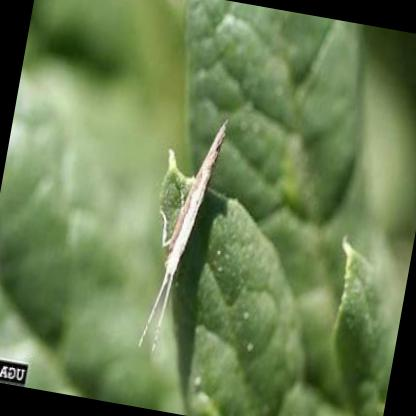plutella: (140, 107, 232, 364)
